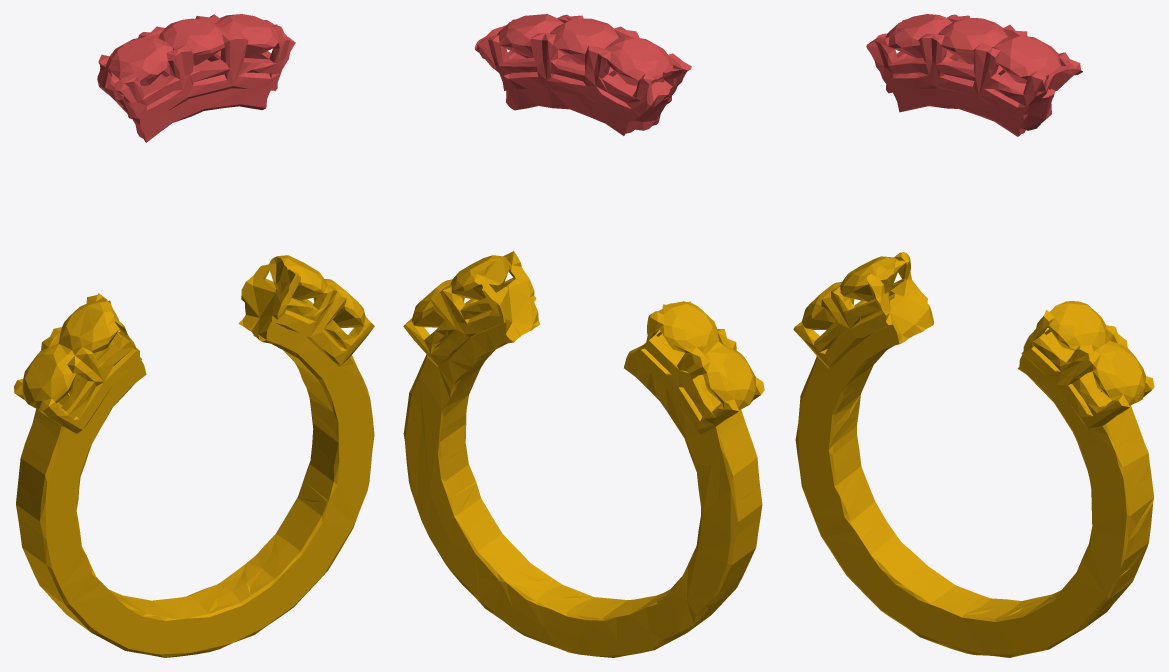
Rendered from fractured_62_2pcs_transformed.glb.
The picture shows the model from 3 angles, left to right: view 1: azimuth 30°, elevation 25°; view 2: azimuth 150°, elevation 25°; view 3: azimuth 330°, elevation 25°; orthographic projection.
Visible parts, largest first — view 1: piece_0.obj, piece_1.obj; view 2: piece_0.obj, piece_1.obj; view 3: piece_0.obj, piece_1.obj.
Boxes of the visible parts, x1,y1,x2,y2 form: piece_0.obj: (14, 255, 374, 657); piece_1.obj: (97, 14, 295, 142); piece_0.obj: (403, 251, 764, 657); piece_1.obj: (474, 14, 691, 135); piece_0.obj: (793, 252, 1154, 657); piece_1.obj: (866, 14, 1082, 136).
Size of the model in its own units: 0.91 by 1.6 by 0.1681.
